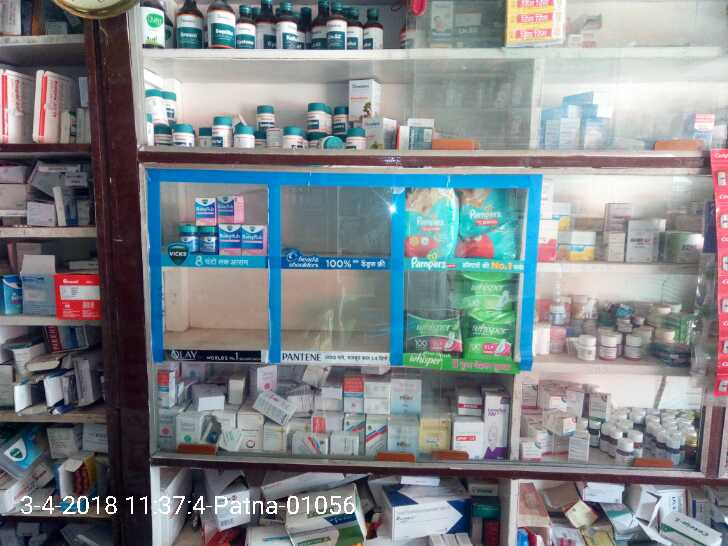vicks: (242, 222, 269, 257), (219, 225, 242, 256), (195, 195, 217, 225), (180, 229, 201, 256), (220, 198, 241, 222), (202, 225, 218, 255)
